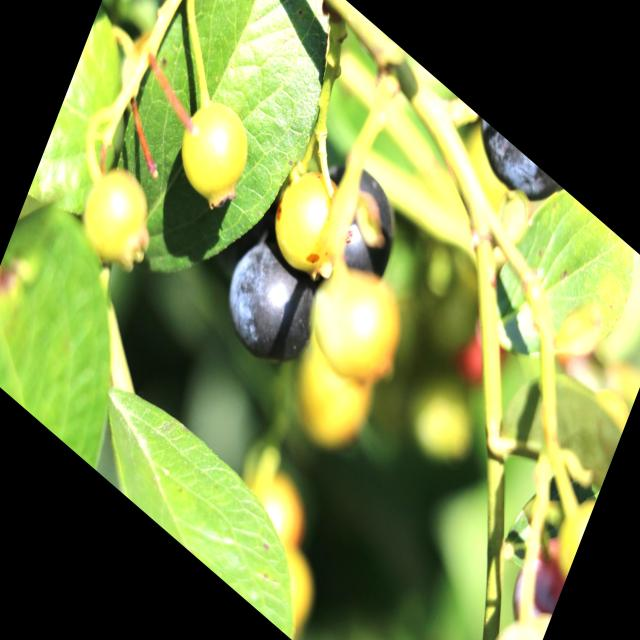blueberry: (214, 221, 331, 389), (302, 143, 416, 303), (463, 114, 569, 230)
blueberry-unripe: (306, 245, 416, 403), (280, 328, 379, 468), (263, 148, 357, 292), (170, 78, 263, 220), (78, 156, 158, 280)
